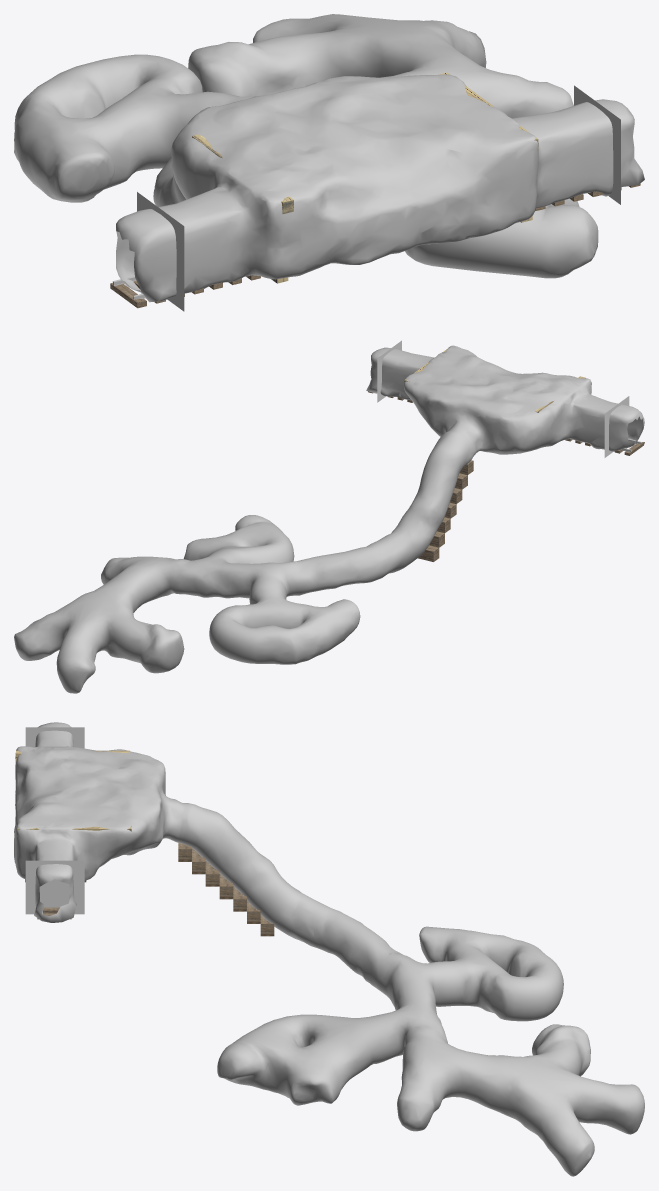
File: Mine2 Version 3.fbx
The picture shows the model from 3 angles, top to bottom: view 1: azimuth 30°, elevation 25°; view 2: azimuth 150°, elevation 25°; view 3: azimuth 270°, elevation 25°; orthographic projection. The views are drawn at different scales.
Visible parts, largest first — view 1: Cave, EmissionPlane2, EmissionPlane1, RailBoard, Support2; view 2: Cave, Stair; view 3: Cave, EmissionPlane1, Stair, EmissionPlane2.
Part boxes in pixels (<box>): Cave: <box>14,14,644,302</box>; EmissionPlane2: <box>137,192,184,311</box>; EmissionPlane1: <box>574,85,620,204</box>; RailBoard: <box>110,183,640,308</box>; Support2: <box>192,134,293,283</box>; Cave: <box>14,345,644,693</box>; Stair: <box>418,460,473,561</box>; Cave: <box>14,722,644,1176</box>; EmissionPlane1: <box>25,860,84,914</box>; Stair: <box>178,843,274,936</box>; EmissionPlane2: <box>25,727,84,748</box>.
Size of the model in its own units: 3282 by 1531 by 3679.
